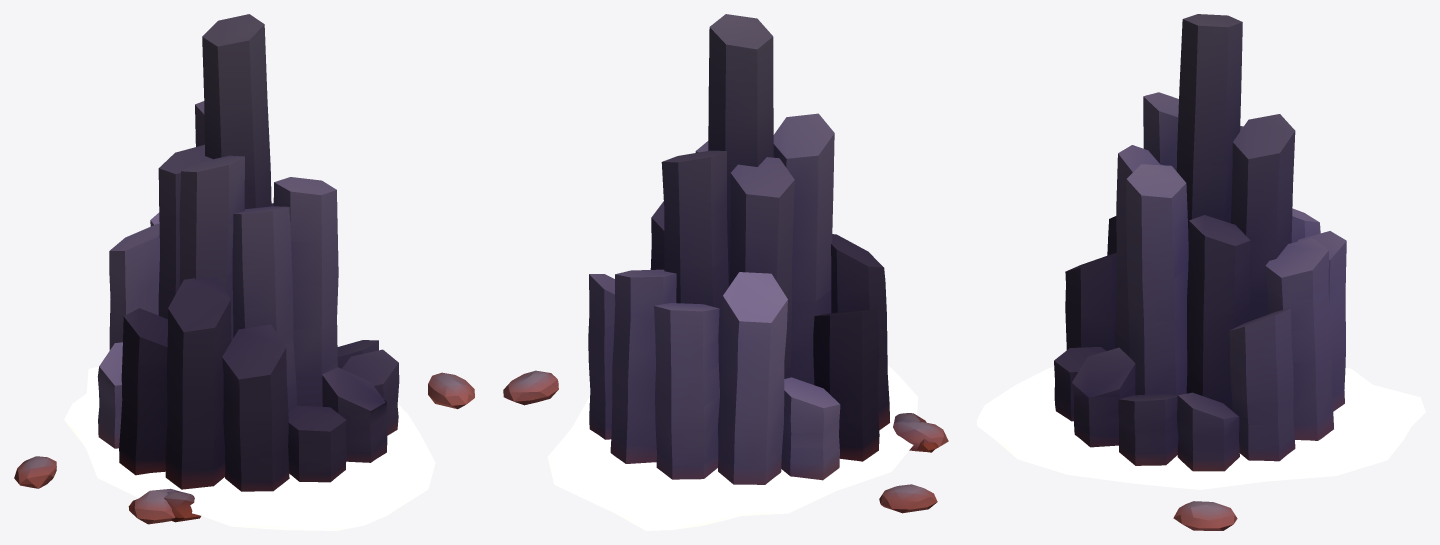
The model's file is ember_pillar_organ_b.glb.
3 renders of one model, left to right at view 1: azimuth 30°, elevation 25°; view 2: azimuth 150°, elevation 25°; view 3: azimuth 270°, elevation 25°, orthographic. The views are drawn at different scales.
Parts seen in each view (by area): view 1: ember_pillar_organ_b; view 2: ember_pillar_organ_b; view 3: ember_pillar_organ_b.
Part boxes in pixels (x1=…): ember_pillar_organ_b: x1=14, y1=14, x2=474, y2=530; ember_pillar_organ_b: x1=503, y1=14, x2=948, y2=530; ember_pillar_organ_b: x1=977, y1=14, x2=1425, y2=530.
Size of the model in its own units: 15.65 by 14.66 by 14.34.
